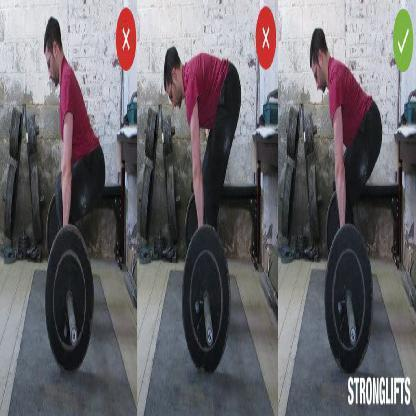barbell: (41, 222, 98, 374), (180, 222, 232, 378), (322, 223, 374, 376)
